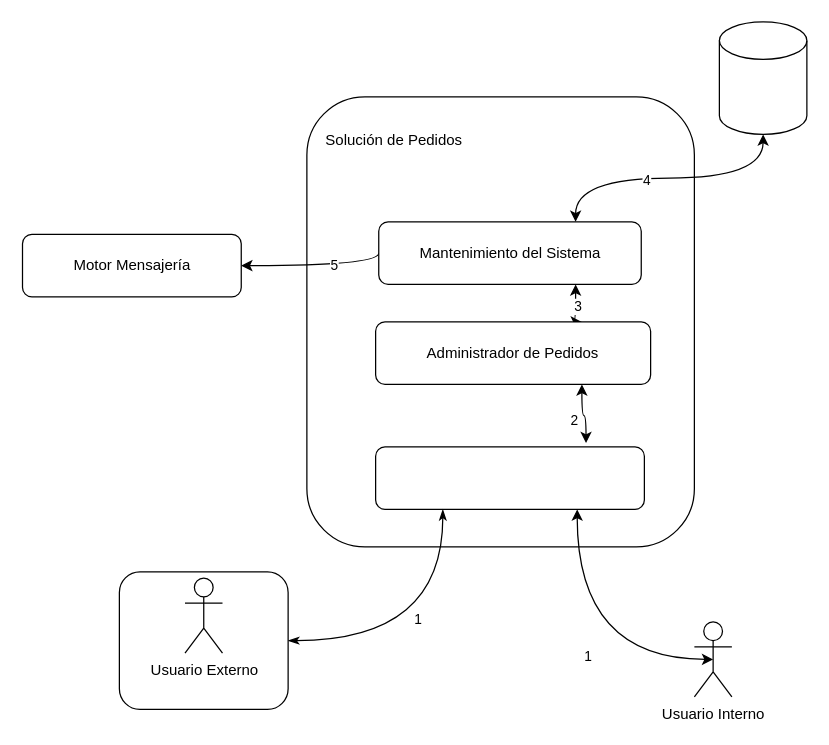
Some shapes in this 829 by 745 pixel diagram are drawn without their labels. Here are the shapes that lost their labels. From the top down, the box of each, then its label:
(718, 21, 807, 134): SQLServer
(374, 446, 644, 509): Administración de Seguridad
